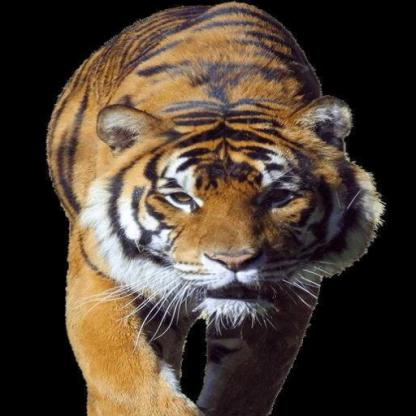Tiger: (33, 0, 389, 415)
